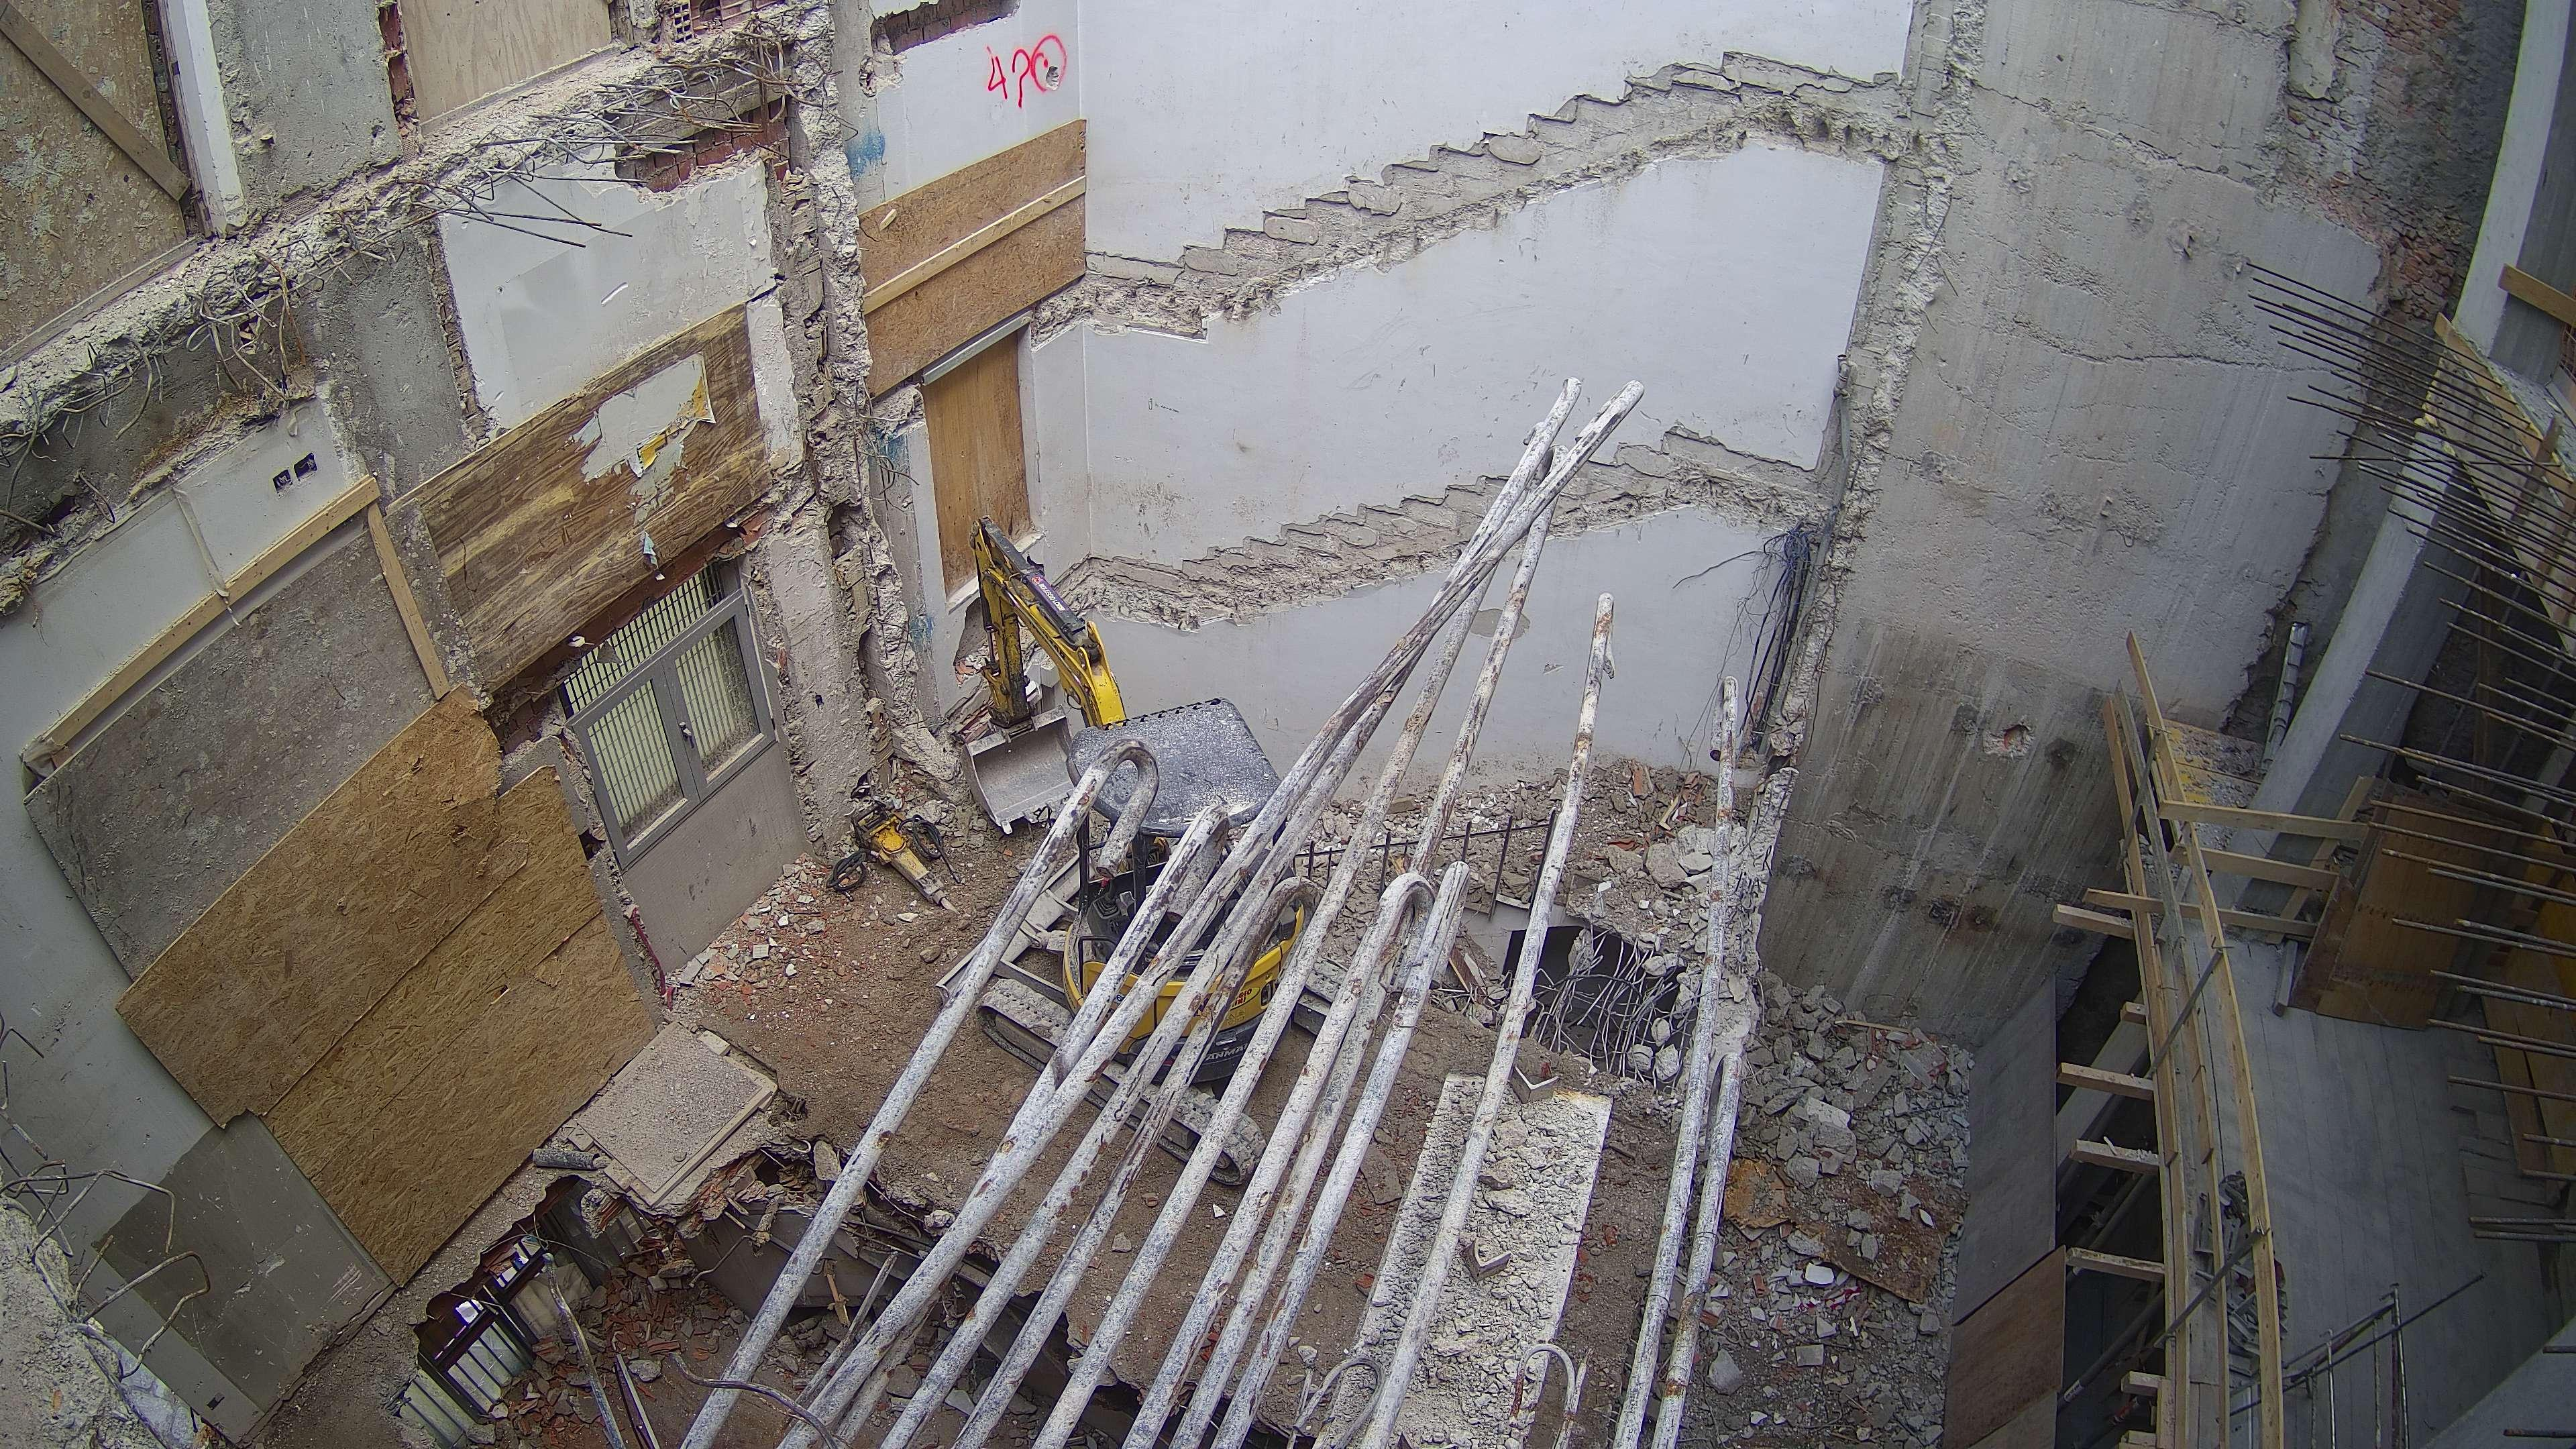excavator: (938, 513, 1357, 1191)
